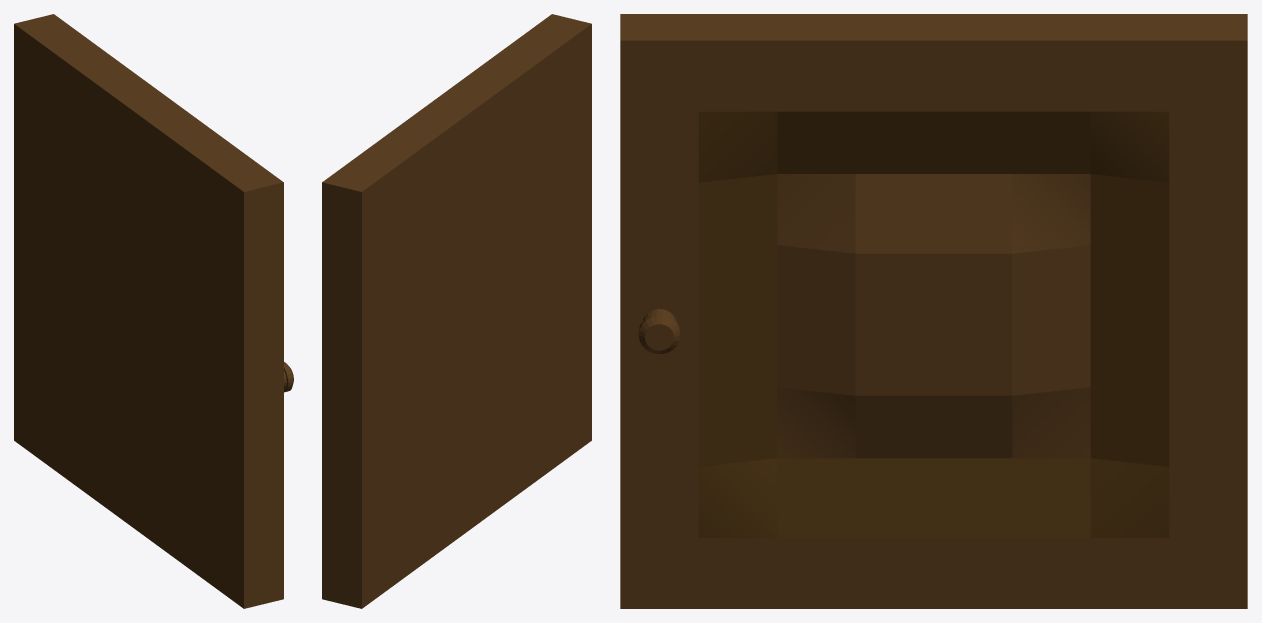
Rendered from cabinet.obj.
The picture shows the model from 3 angles, left to right: view 1: azimuth 30°, elevation 25°; view 2: azimuth 150°, elevation 25°; view 3: azimuth 270°, elevation 25°; orthographic projection. The views are drawn at different scales.
Visible parts, largest first — view 1: Cube.004; view 2: Cube.004; view 3: Cube.004.
Part boxes in pixels (x1,y1,x2,y2): Cube.004: (14, 14, 293, 608); Cube.004: (322, 14, 591, 608); Cube.004: (620, 14, 1247, 608).
Size of the model in its own units: 0.2663 by 1.8 by 1.8.
